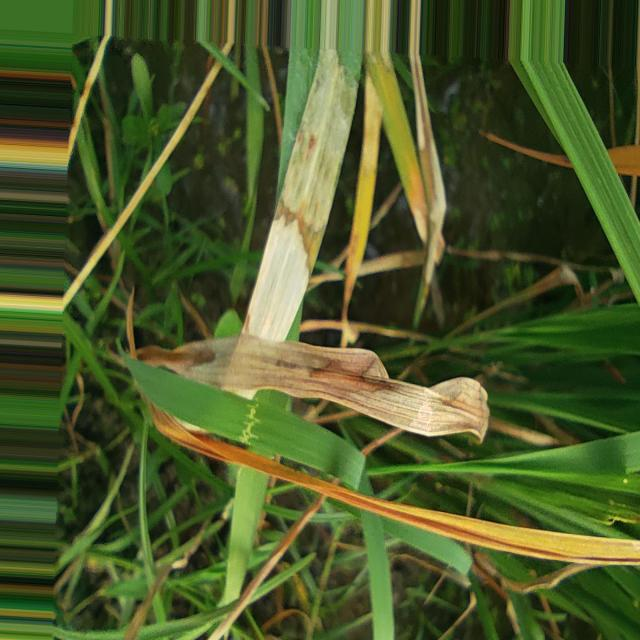Leaf_Blast: (150, 403, 640, 565)
Rice False Smut: (139, 332, 489, 440), (242, 50, 360, 341), (409, 0, 428, 154), (424, 175, 430, 211)
